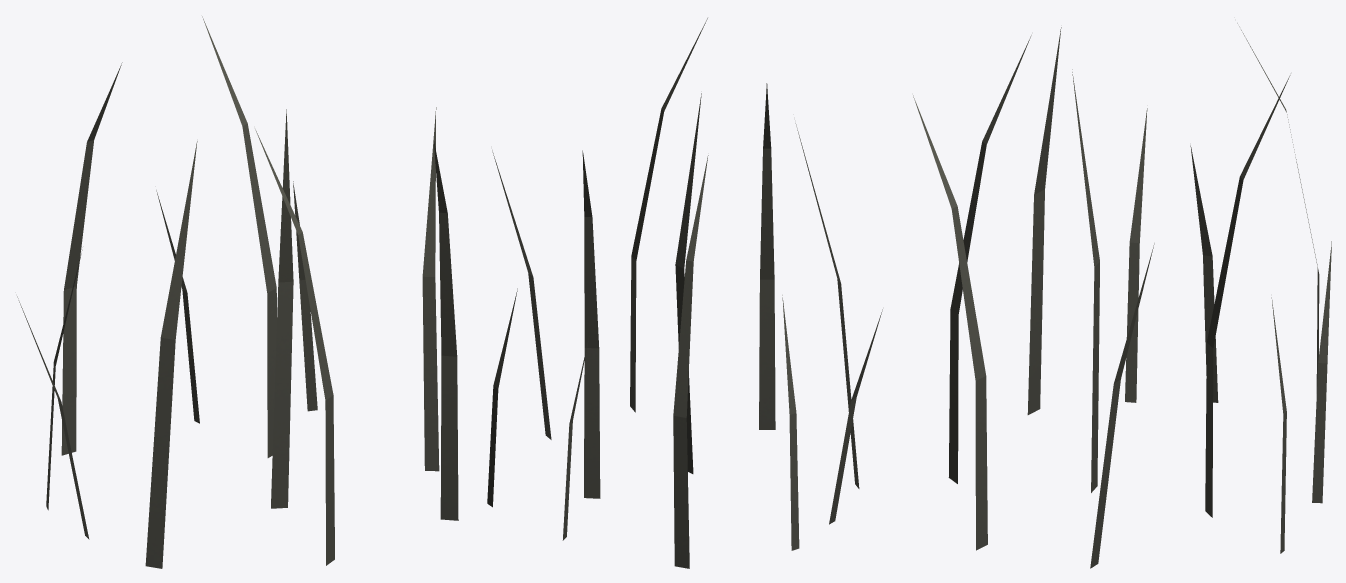
Rendered from SkinnyGrass.fbx.
The picture shows the model from 3 angles, left to right: view 1: azimuth 30°, elevation 25°; view 2: azimuth 150°, elevation 25°; view 3: azimuth 270°, elevation 25°; orthographic projection. The views are drawn at different scales.
Visible parts, largest first — view 1: SM_ENV_Nature_GeneralFoliageSet_SkinnyGrass.mo; view 2: SM_ENV_Nature_GeneralFoliageSet_SkinnyGrass.mo; view 3: SM_ENV_Nature_GeneralFoliageSet_SkinnyGrass.mo.
Boxes of the visible parts, box(x1,y1,x2,y2) form: SM_ENV_Nature_GeneralFoliageSet_SkinnyGrass.mo: box(17, 16, 458, 568); SM_ENV_Nature_GeneralFoliageSet_SkinnyGrass.mo: box(487, 18, 882, 568); SM_ENV_Nature_GeneralFoliageSet_SkinnyGrass.mo: box(913, 23, 1331, 568).
Size of the model in its own units: 74.19 by 70.03 by 61.75.
1 material, 1 textured.
